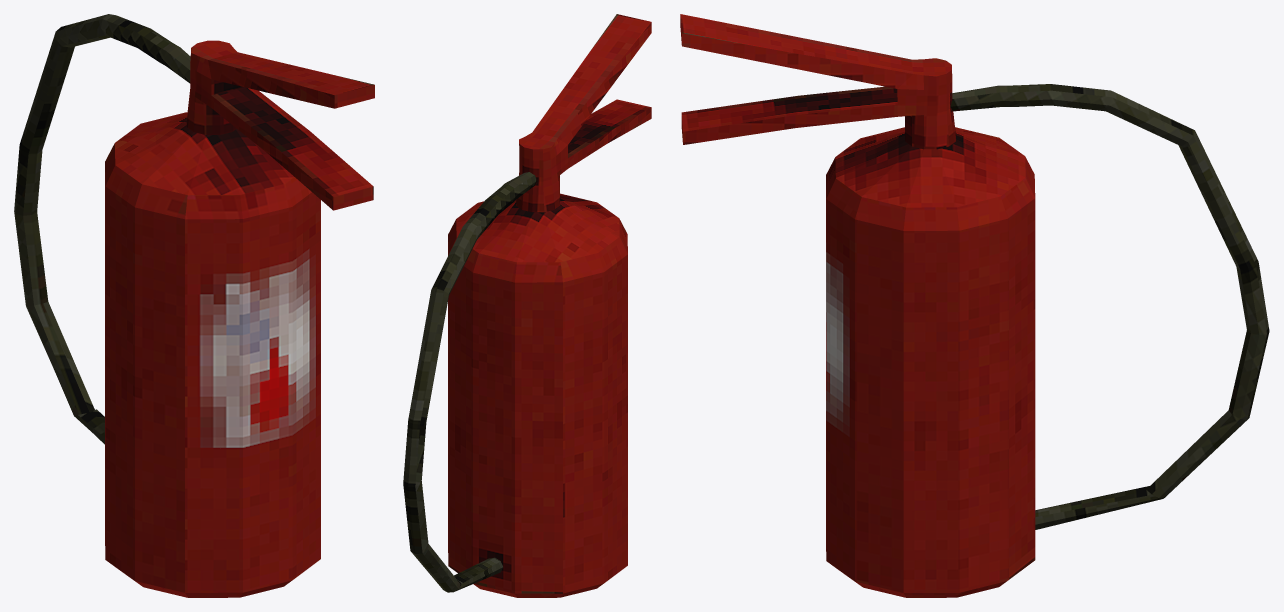
The model's file is SM_FireExtinguisher.fbx.
3 views of the same model, side by side, from view 1: azimuth 30°, elevation 25°; view 2: azimuth 150°, elevation 25°; view 3: azimuth 270°, elevation 25° (orthographic). The views are drawn at different scales.
Parts seen in each view (by area): view 1: SM_FireExtinguisher; view 2: SM_FireExtinguisher; view 3: SM_FireExtinguisher.
Part boxes in pixels (x1,y1,x2,y2): SM_FireExtinguisher: [14, 14, 374, 597]; SM_FireExtinguisher: [403, 14, 651, 597]; SM_FireExtinguisher: [680, 14, 1269, 597].
Bounding box in the file's own units: 22.32 × 63.63 × 62.78.
